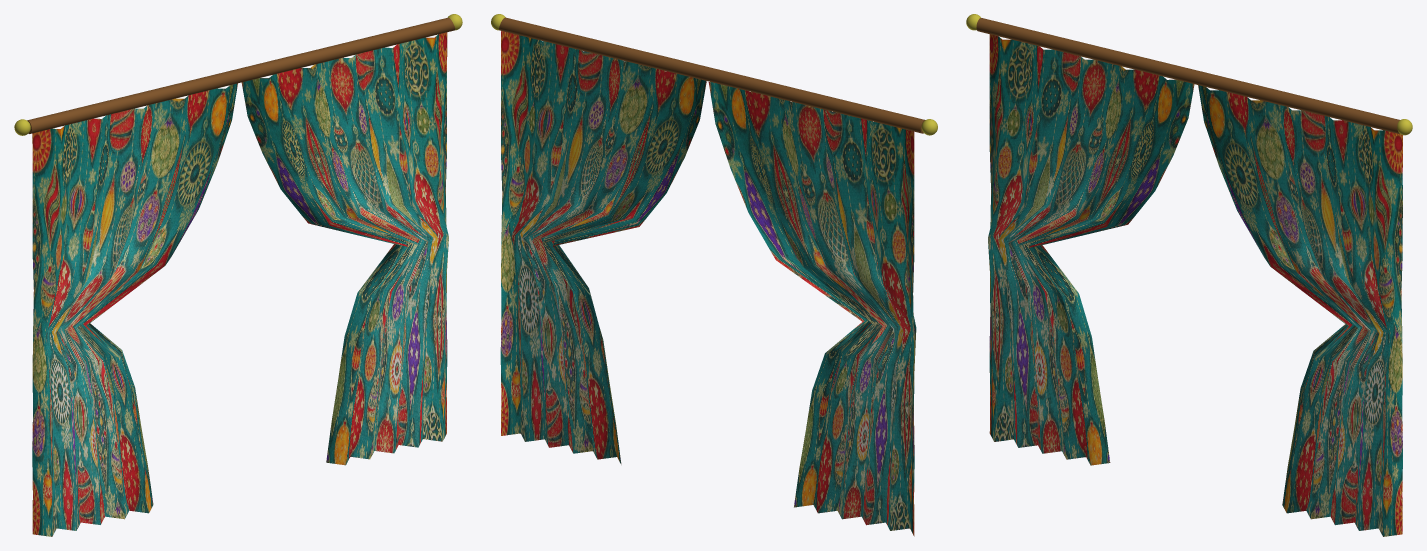
File: CurtainsFBX 1.fbx
3 renders of one model, left to right at view 1: azimuth 30°, elevation 25°; view 2: azimuth 150°, elevation 25°; view 3: azimuth 330°, elevation 25°, orthographic.
Visible parts, largest first — view 1: pPlane1, pPlane2, pCylinder1; view 2: pPlane2, pPlane1, pCylinder1; view 3: pPlane2, pPlane1, pCylinder1.
Part boxes in pixels (x1,y1,x2,y2): pPlane1: [32, 83, 237, 536]; pPlane2: [241, 32, 448, 465]; pCylinder1: [27, 17, 454, 133]; pPlane2: [500, 31, 706, 464]; pPlane1: [708, 82, 916, 536]; pCylinder1: [499, 17, 925, 133]; pPlane2: [1198, 85, 1402, 536]; pPlane1: [988, 34, 1194, 465]; pCylinder1: [976, 18, 1399, 134].
Bounding box in the file's own units: 1166 × 1047 × 40.86.
Materials: 3 (1 with a texture image).
